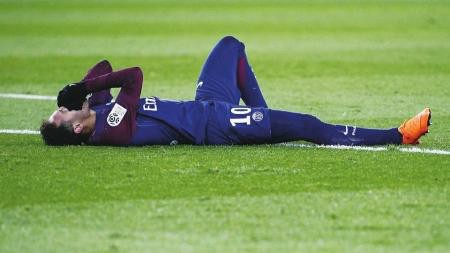fall: (24, 29, 438, 149)
